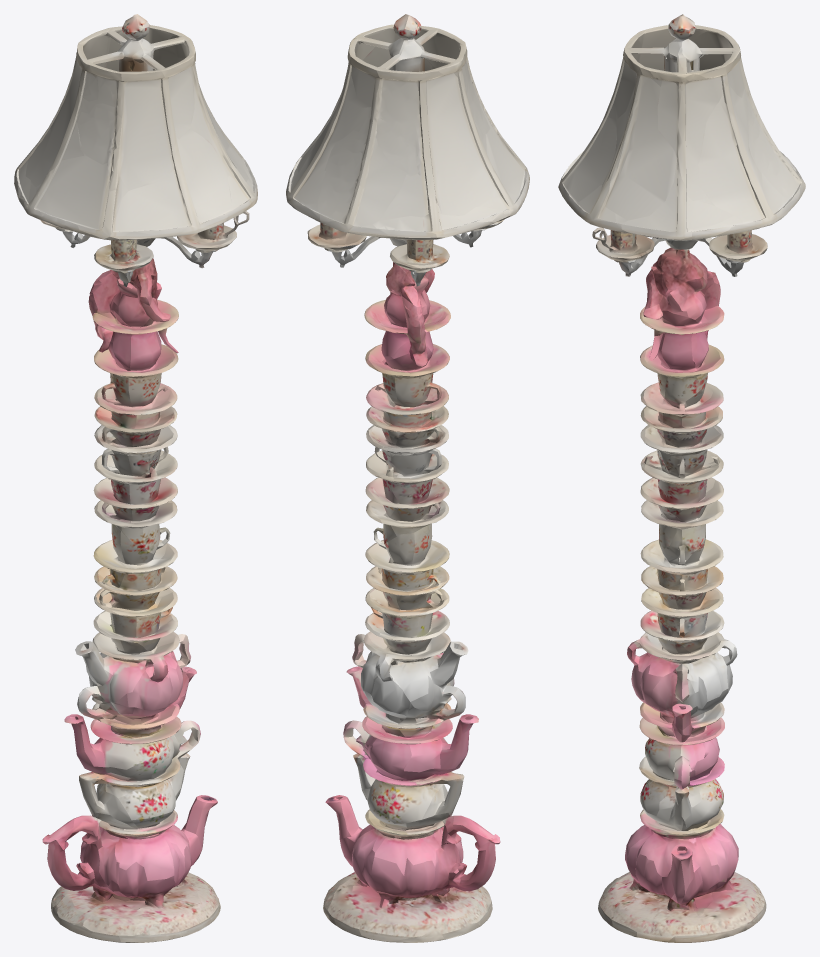
The model's file is lamp.glb.
3 views of the same model, side by side, from view 1: azimuth 30°, elevation 25°; view 2: azimuth 150°, elevation 25°; view 3: azimuth 270°, elevation 25° (orthographic).
Visible parts, largest first — view 1: convert; view 2: convert; view 3: convert.
Part boxes in pixels (x1,y1,x2,y2): convert: (14, 14, 257, 942); convert: (286, 14, 529, 942); convert: (558, 14, 805, 942).
Size of the model in its own units: 0.2996 by 1.18 by 0.2972.
1 material, 1 textured.
